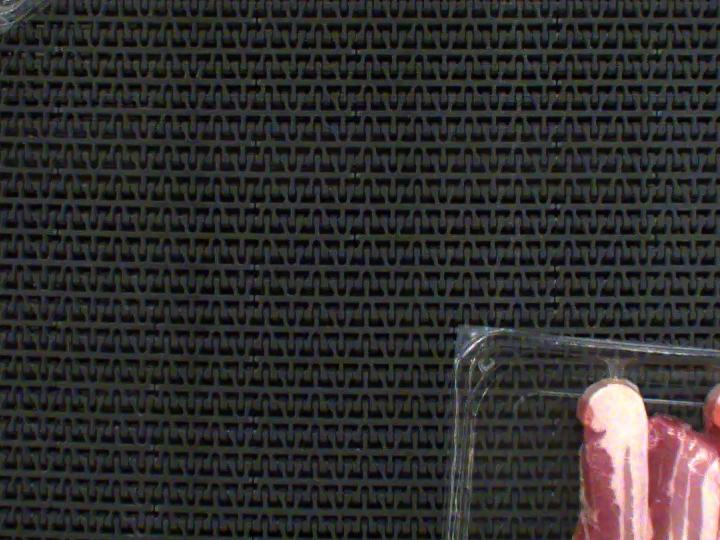packaging-error: (597, 351, 633, 383)
